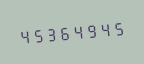five: (31, 23, 44, 46), (115, 16, 128, 39)
four: (17, 24, 30, 47), (73, 19, 86, 42), (101, 17, 114, 40)
nine: (87, 18, 100, 41)
six: (59, 21, 72, 43)
three: (45, 22, 58, 45)
